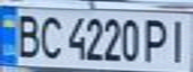0: (121, 15, 142, 63)
2: (84, 14, 106, 63), (103, 15, 124, 63)
4: (63, 12, 87, 61)
B: (9, 10, 42, 60)
C: (36, 11, 66, 60)
I: (163, 16, 193, 64)
P: (139, 16, 172, 63)
